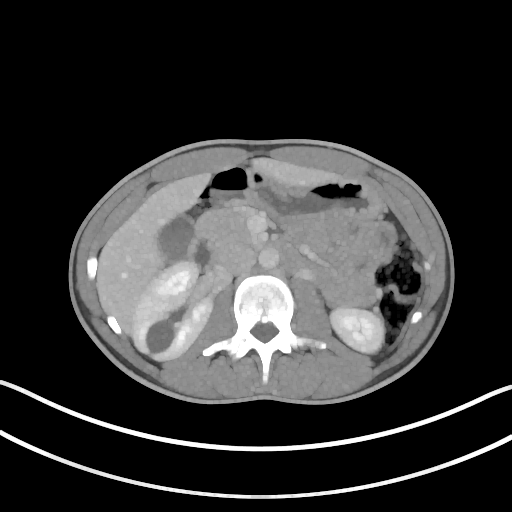Lesion: (143, 316, 177, 358)
